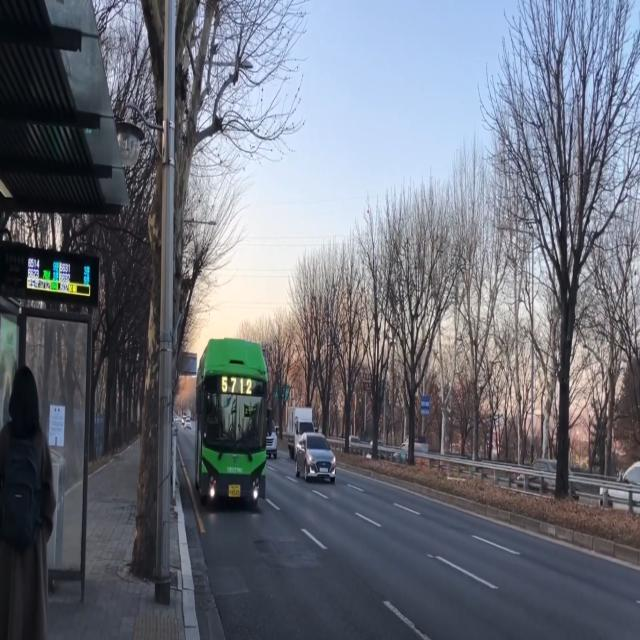bus-number: (220, 376, 252, 397)
